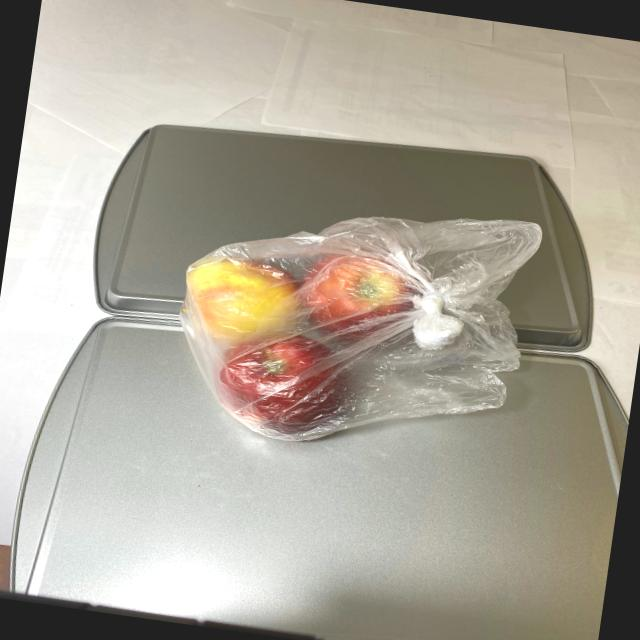apple: (162, 220, 427, 462)
